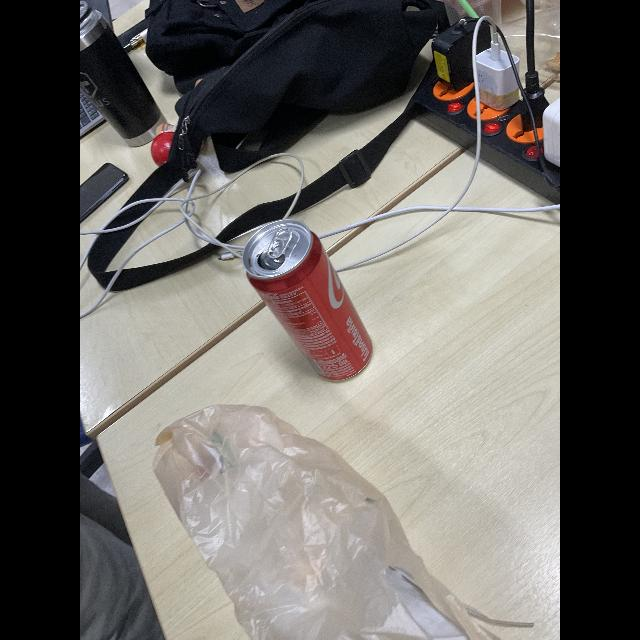can: (242, 216, 376, 384)
plastic_bag: (150, 402, 528, 640)
plastic_cup: (437, 0, 507, 62)
